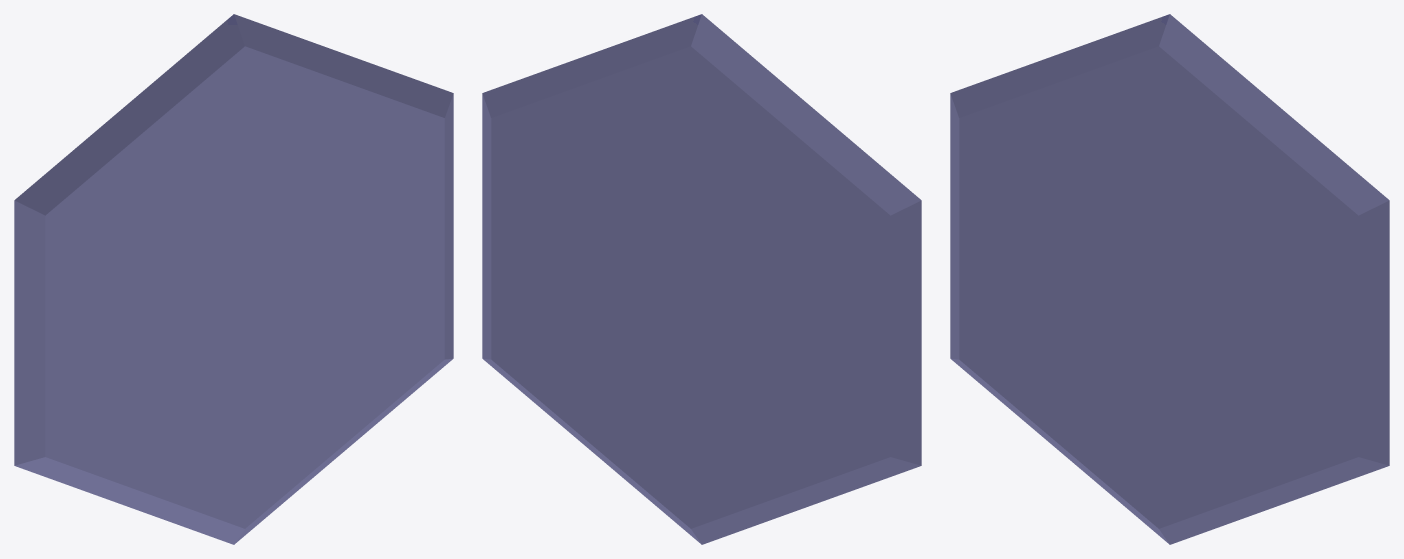
Rendered from ps2_save-icons_ar-tonelico.glb.
3 views of the same model, side by side, from view 1: azimuth 30°, elevation 25°; view 2: azimuth 150°, elevation 25°; view 3: azimuth 330°, elevation 25° (orthographic).
Parts seen in each view (by area): view 1: stan.ico; view 2: stan.ico; view 3: stan.ico.
Part boxes in pixels (x1,y1,x2,y2): stan.ico: (14, 14, 453, 544); stan.ico: (482, 14, 921, 544); stan.ico: (950, 14, 1389, 544).
Bounding box in the file's own units: 3.43 × 3.96 × 0.2998.
Materials: 1 (1 with a texture image).
